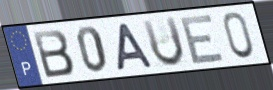0: (75, 24, 109, 75), (222, 11, 256, 61)
A: (116, 21, 156, 73)
B: (31, 28, 77, 80)
E: (179, 12, 227, 67)
U: (140, 15, 187, 69)
